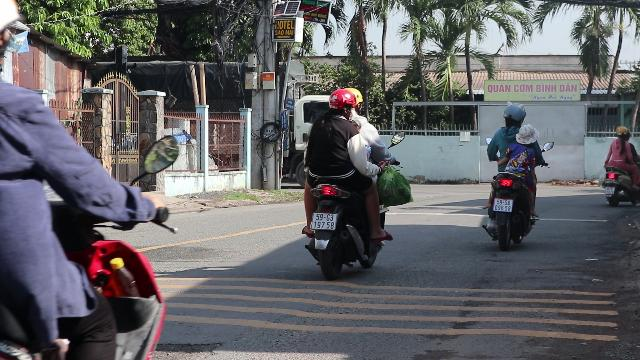helmet: (326, 88, 358, 118), (501, 104, 525, 128)
licenseplate: (311, 213, 335, 229), (492, 198, 512, 212)
motorcyclist: (294, 85, 394, 277), (480, 103, 544, 249)
nohelmet: (516, 123, 538, 145)
